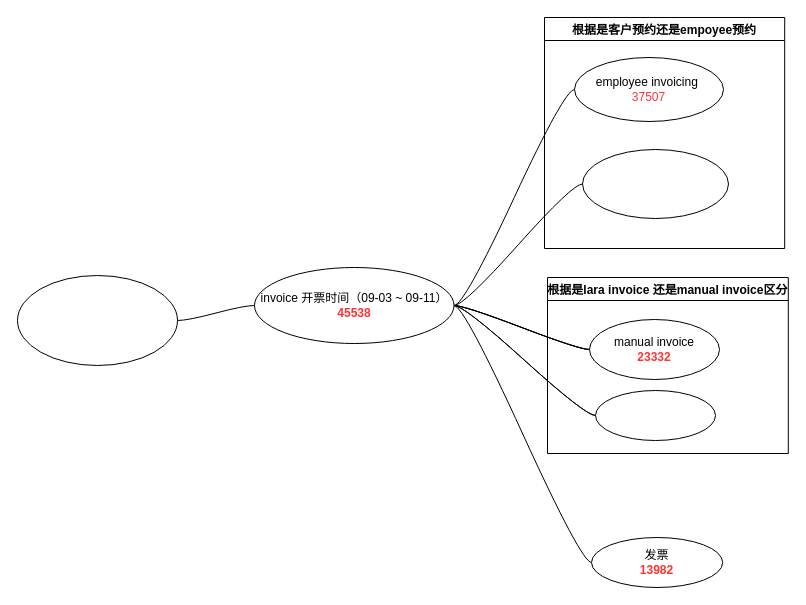
Some shapes in this 806 by 605 pixel diagram are drawn without their labels. The shapes that lost their labels are listed below. From the top down, each one's centre as x and y in pixels, then its label:
At point 655,183: "customer invoicing 8031".
At point 97,320: "invoice (09-03 ~ 09-11) 流入thunder 126232".
At point 655,415: "lara invoice 22206".
